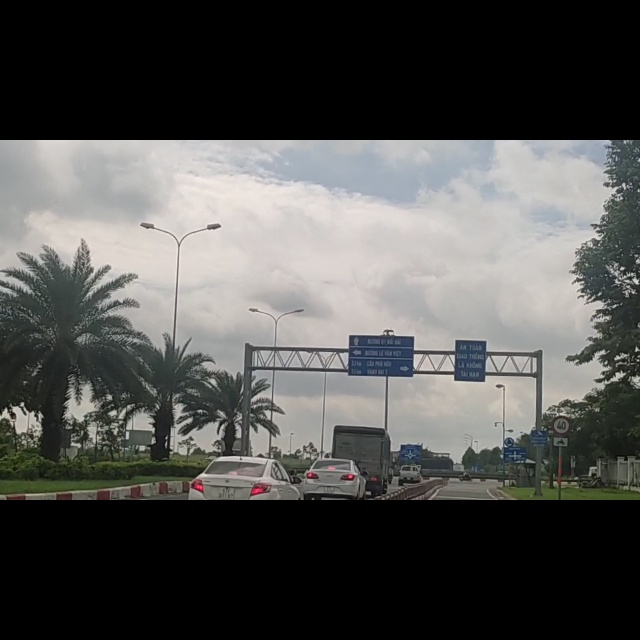bien_chi_dan: (551, 491, 571, 524), (552, 525, 570, 548)
